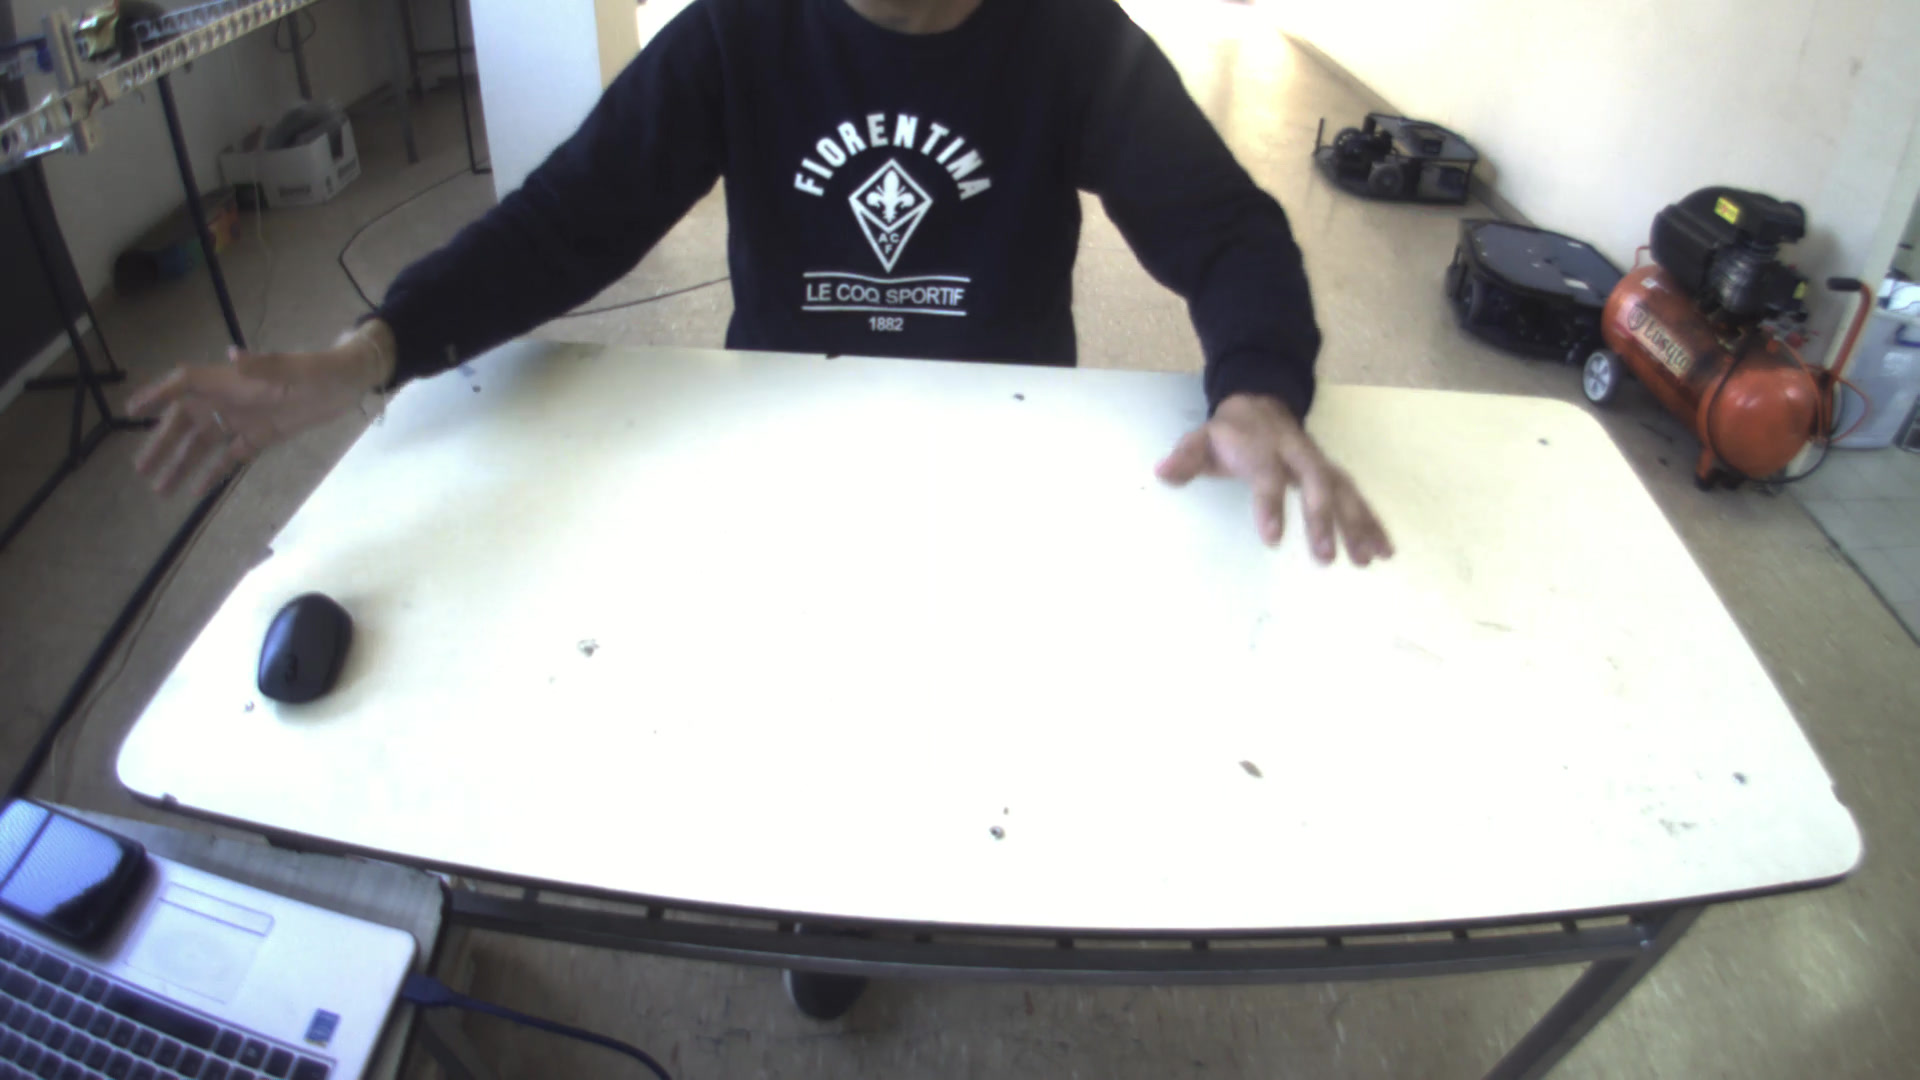hand: (104, 313, 390, 501), (1156, 377, 1414, 570)
